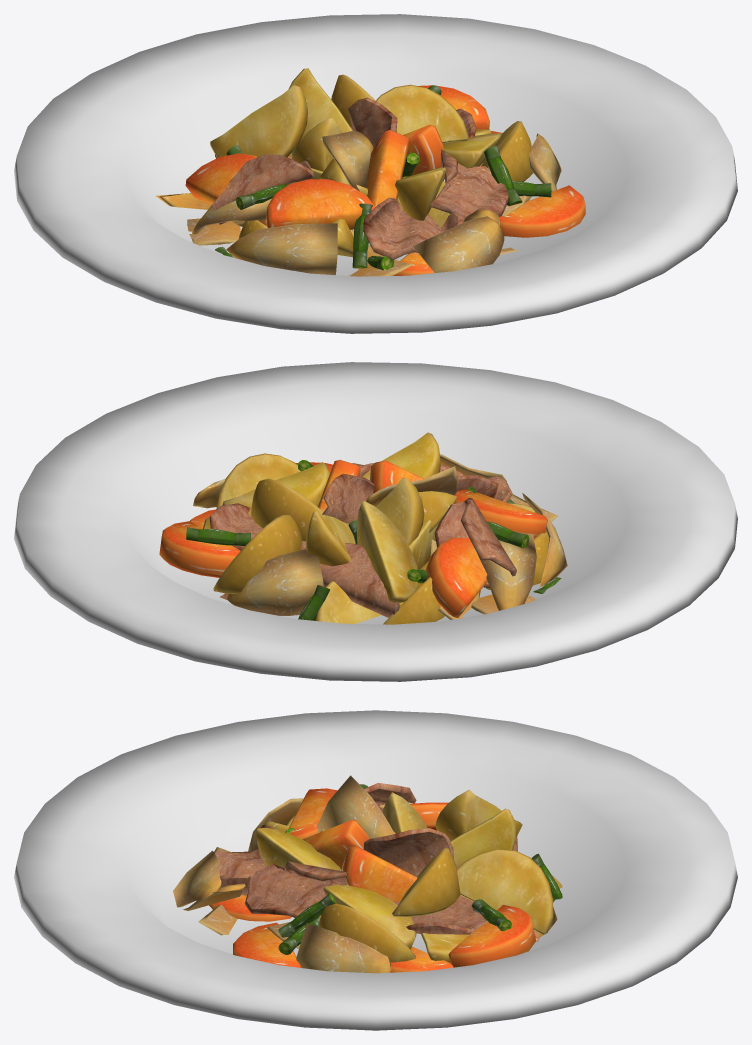
File: stew.fbx
3 renders of one model, top to bottom at view 1: azimuth 30°, elevation 25°; view 2: azimuth 150°, elevation 25°; view 3: azimuth 270°, elevation 25°, orthographic.
Parts seen in each view (by area): view 1: OL_outline_00_00_0_0_node, Re_160_01_2_0_node, Re_160_05_6_0_node, Re_160_04_5_0_node, Re_160_02_3_0_node, Re_160_03_4_0_node; view 2: OL_outline_00_00_0_0_node, Re_160_01_2_0_node, Re_160_05_6_0_node, Re_160_04_5_0_node, Re_160_02_3_0_node, Re_160_03_4_0_node; view 3: OL_outline_00_00_0_0_node, Re_160_01_2_0_node, Re_160_04_5_0_node, Re_160_02_3_0_node, Re_160_05_6_0_node, Re_160_03_4_0_node.
Part boxes in pixels (x1,y1,x2,y2): OL_outline_00_00_0_0_node: (14,14,737,333); Re_160_01_2_0_node: (210,68,532,257); Re_160_05_6_0_node: (156,131,561,276); Re_160_04_5_0_node: (185,85,585,275); Re_160_02_3_0_node: (211,97,509,259); Re_160_03_4_0_node: (215,85,551,270); OL_outline_00_00_0_0_node: (14,362,737,681); Re_160_01_2_0_node: (203,432,549,624); Re_160_05_6_0_node: (193,454,567,619); Re_160_04_5_0_node: (159,460,547,617); Re_160_02_3_0_node: (209,463,516,617); Re_160_03_4_0_node: (186,460,561,620); OL_outline_00_00_0_0_node: (14,710,737,1030); Re_160_01_2_0_node: (256,790,562,962); Re_160_04_5_0_node: (209,788,535,972); Re_160_02_3_0_node: (214,783,540,941); Re_160_05_6_0_node: (173,775,557,973); Re_160_03_4_0_node: (278,784,562,954).
Size of the model in its own units: 2465 by 468 by 2464.
Materials: 8 (7 with a texture image).
